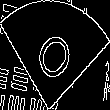O_SW: (30, 21, 80, 89)
